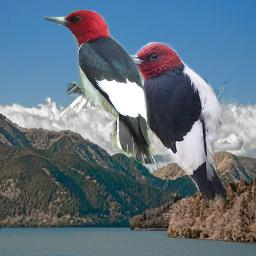Woodpecker: (41, 9, 160, 164), (116, 42, 227, 204)
